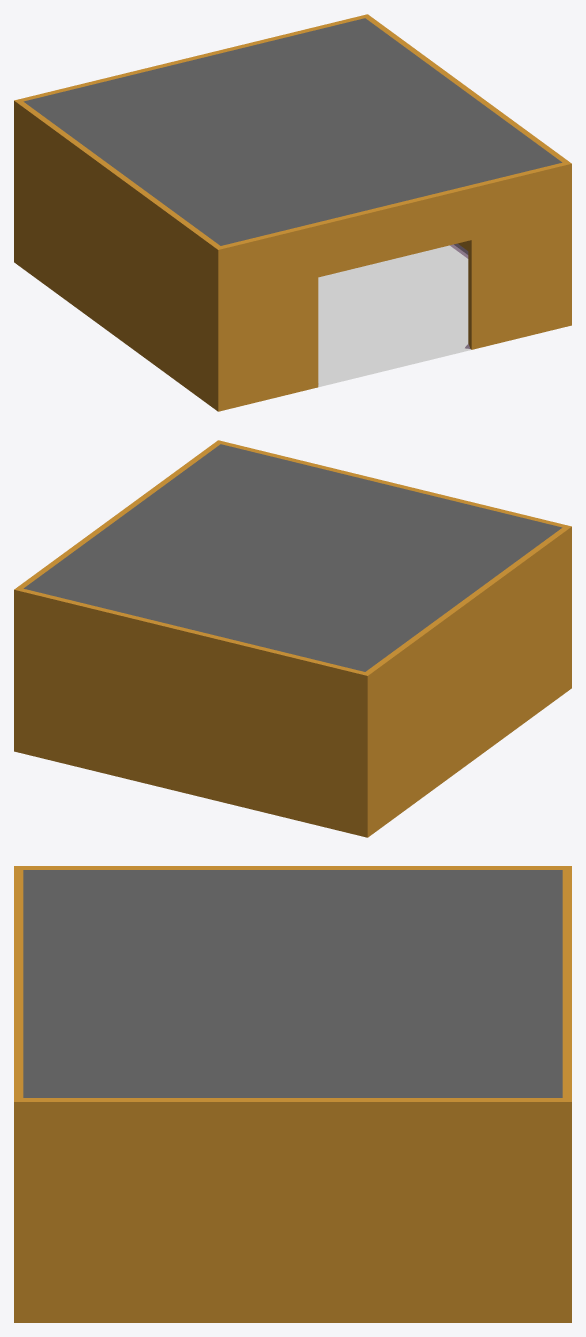
Rendered from bigRoom1.fbx.
3 renders of one model, top to bottom at view 1: azimuth 30°, elevation 25°; view 2: azimuth 150°, elevation 25°; view 3: azimuth 270°, elevation 25°, orthographic. The views are drawn at different scales.
Parts seen in each view (by area): view 1: Plane; view 2: Plane; view 3: Plane.
Part boxes in pixels (x1,y1,x2,y2): Plane: (14,14,571,411); Plane: (14,440,571,837); Plane: (14,866,571,1322).
Size of the model in its own units: 15 by 6.56 by 15.
